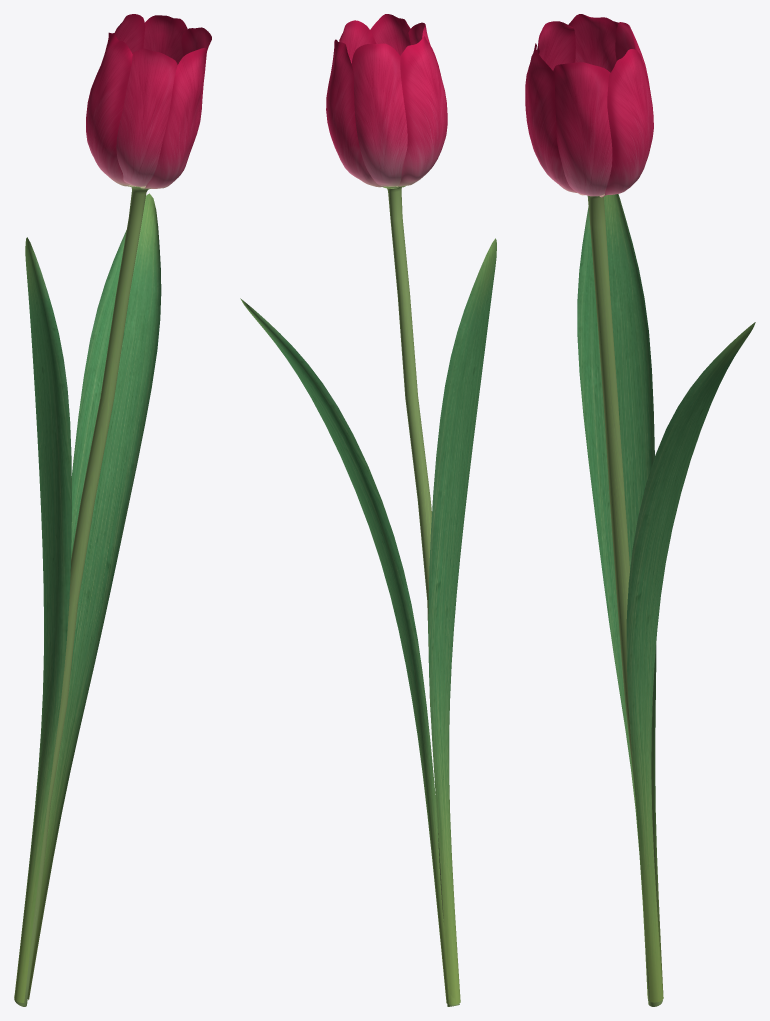
The model's file is Lola.fbx.
3 views of the same model, side by side, from view 1: azimuth 30°, elevation 25°; view 2: azimuth 150°, elevation 25°; view 3: azimuth 270°, elevation 25° (orthographic). The views are drawn at different scales.
Visible parts, largest first — view 1: archmodels66_019_003, archmodels66_019_001, archmodels66_019_002; view 2: archmodels66_019_003, archmodels66_019_001, archmodels66_019_002; view 3: archmodels66_019_003, archmodels66_019_001, archmodels66_019_002.
Boxes of the visible parts, box(x1,y1,x2,y2) form: archmodels66_019_003: box(14, 193, 161, 1002); archmodels66_019_001: box(86, 14, 211, 188); archmodels66_019_002: box(14, 186, 150, 1006); archmodels66_019_003: box(240, 238, 496, 1004); archmodels66_019_001: box(326, 14, 447, 187); archmodels66_019_002: box(383, 186, 459, 1006); archmodels66_019_003: box(577, 194, 755, 1002); archmodels66_019_001: box(525, 14, 653, 197); archmodels66_019_002: box(587, 196, 662, 1006).
Bounding box in the file's own units: 363 × 1724 × 351.
Materials: 3 (3 with a texture image).
